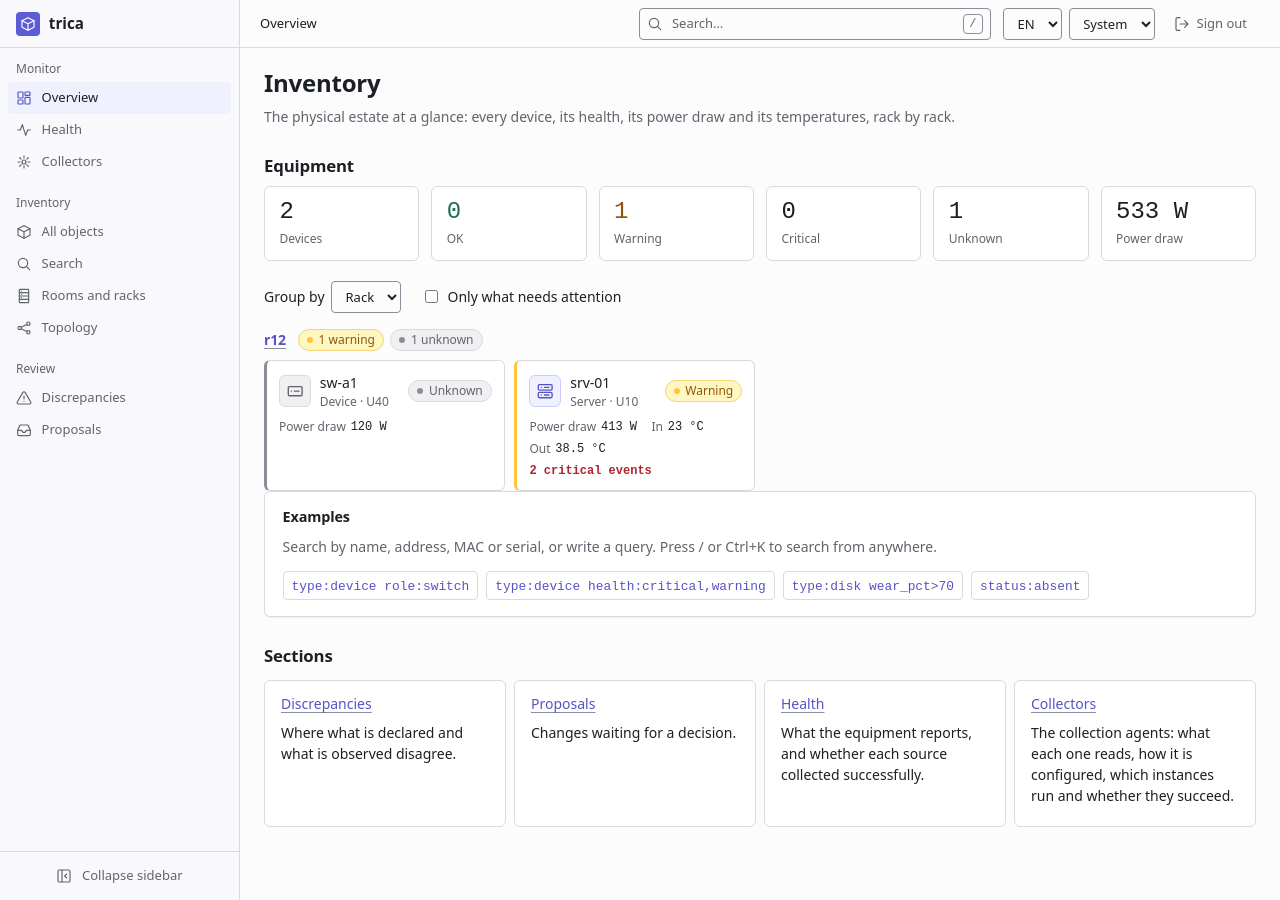
Test: the overview: the physical estate at a glance › can show only what needs attention
The width and height of the screenshot is (1280, 900).
Expected: the link "sw-a1" is shown, [320, 373, 358, 392]
Click the checkbox labelled "Only what needs attention" at (432, 297), box [425, 290, 438, 303]
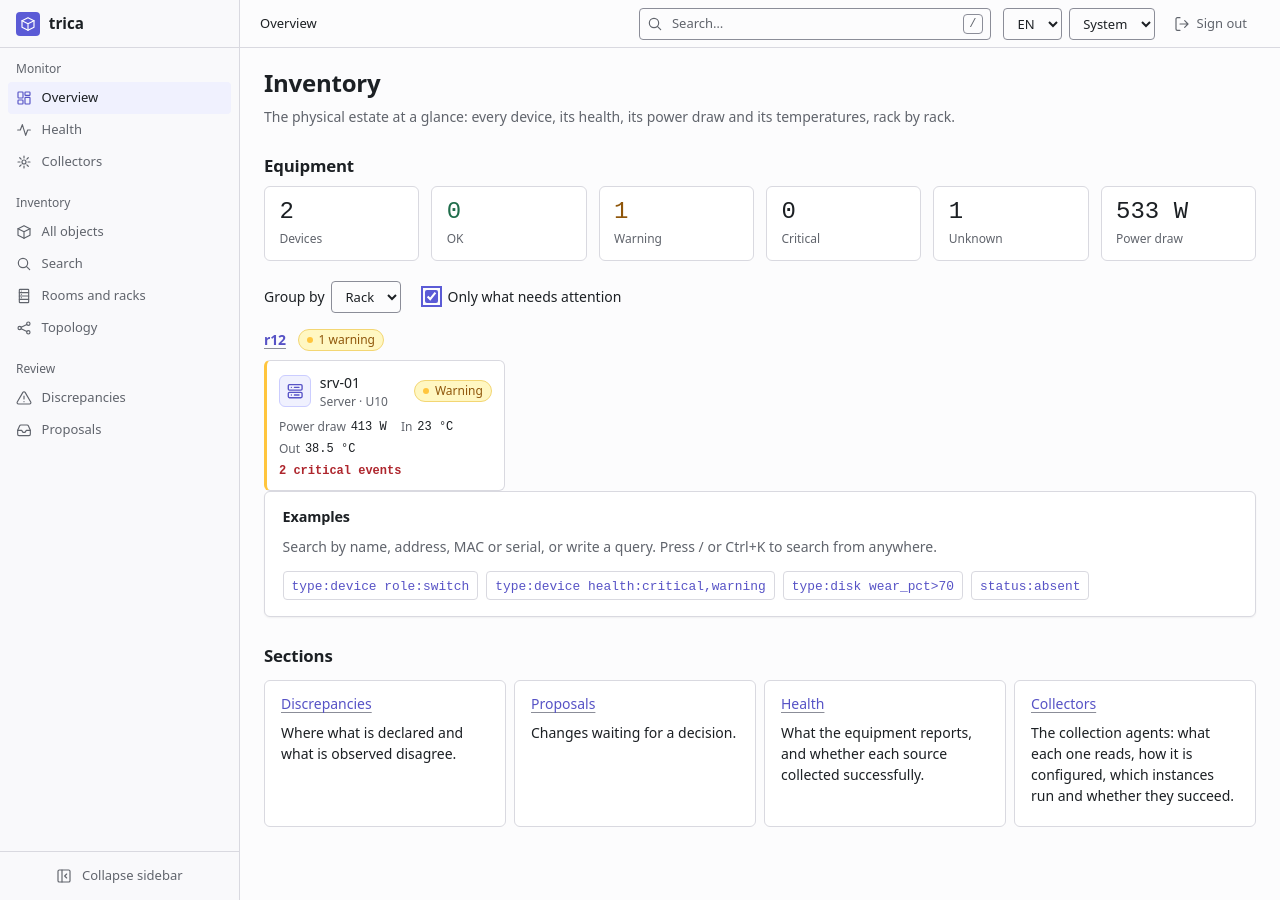
Expected: the link "srv-01" is shown, [320, 373, 360, 392]
Now the link "sw-a1" is gone
